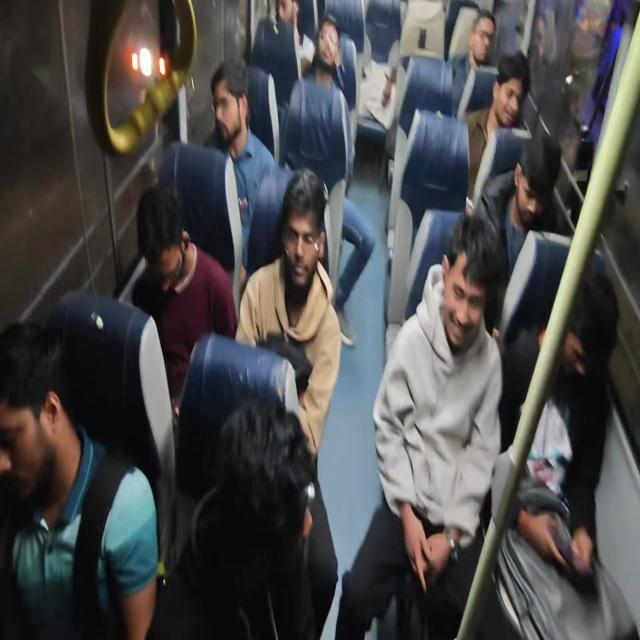person: (209, 390, 312, 606), (0, 298, 79, 506), (552, 270, 630, 430), (269, 162, 327, 360), (441, 236, 497, 356), (211, 54, 260, 188), (506, 147, 560, 235), (134, 171, 184, 265), (488, 59, 537, 153), (356, 26, 394, 114), (317, 7, 349, 87), (472, 7, 498, 59), (272, 0, 301, 18)
